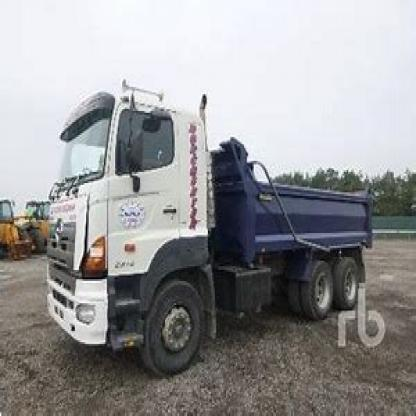dump_truck: (36, 72, 384, 368)
